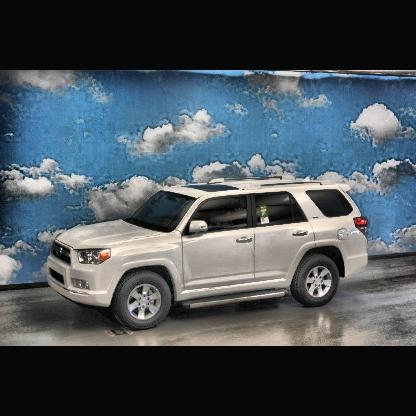Toyota 4Runner SUV 2012: (47, 178, 369, 330)
